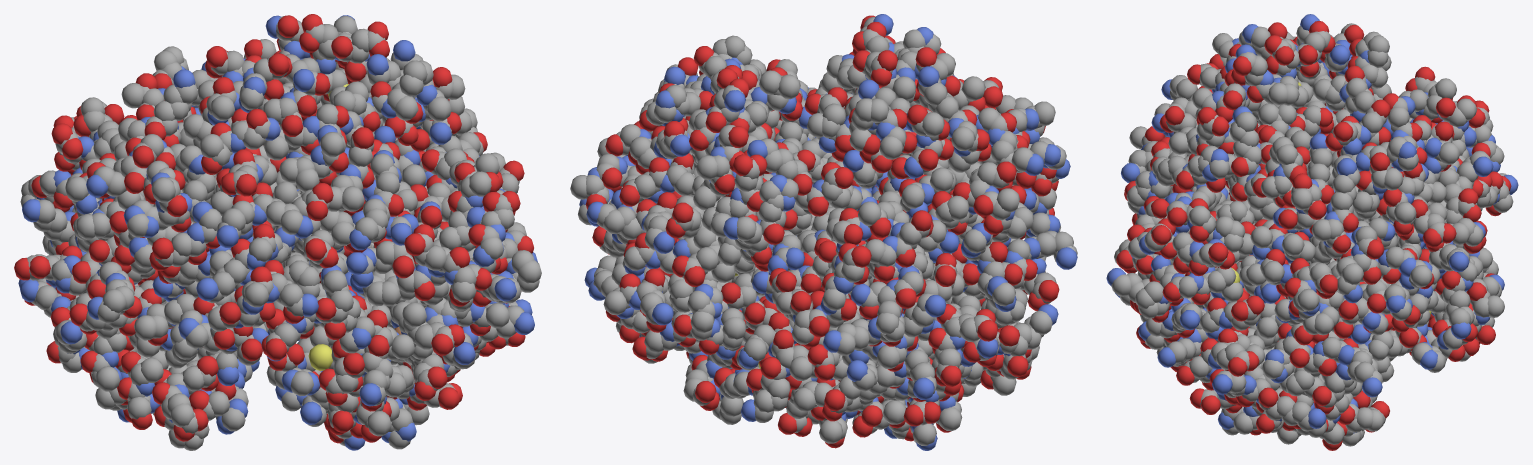
File: hemoglobin-cpk.glb
3 renders of one model, left to right at view 1: azimuth 30°, elevation 25°; view 2: azimuth 150°, elevation 25°; view 3: azimuth 270°, elevation 25°, orthographic. The views are drawn at different scales.
Visible parts, largest first — view 1: hemoglobin-cpk; view 2: hemoglobin-cpk; view 3: hemoglobin-cpk.
Boxes of the visible parts, x1,y1,x2,y2 form: hemoglobin-cpk: (14,14,541,450); hemoglobin-cpk: (570,14,1077,450); hemoglobin-cpk: (1106,14,1518,450).
Size of the model in its own units: 68.39 by 59.34 by 61.22.
